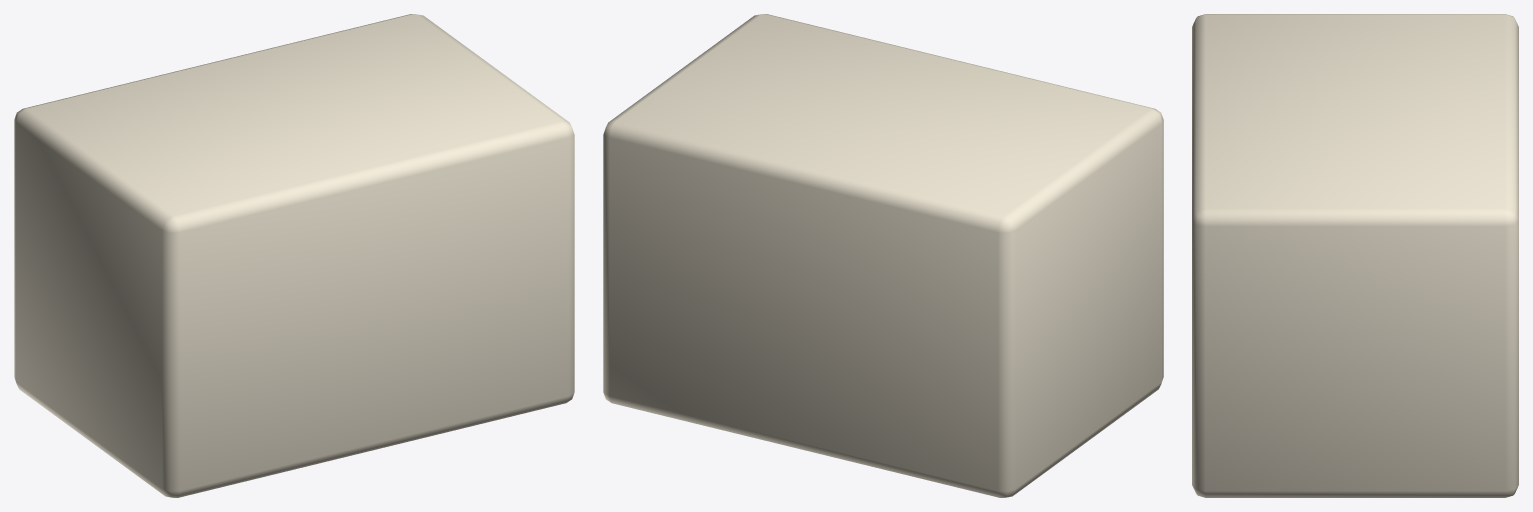
File: equipment_bagging_area.glb
3 renders of one model, left to right at view 1: azimuth 30°, elevation 25°; view 2: azimuth 150°, elevation 25°; view 3: azimuth 270°, elevation 25°, orthographic. The views are drawn at different scales.
Visible parts, largest first — view 1: Bagging; view 2: Bagging; view 3: Bagging.
Boxes of the visible parts, x1,y1,x2,y2 form: Bagging: [14, 14, 574, 497]; Bagging: [603, 14, 1163, 497]; Bagging: [1192, 14, 1518, 497].
Size of the model in its own units: 1.25 by 0.82 by 0.84.
